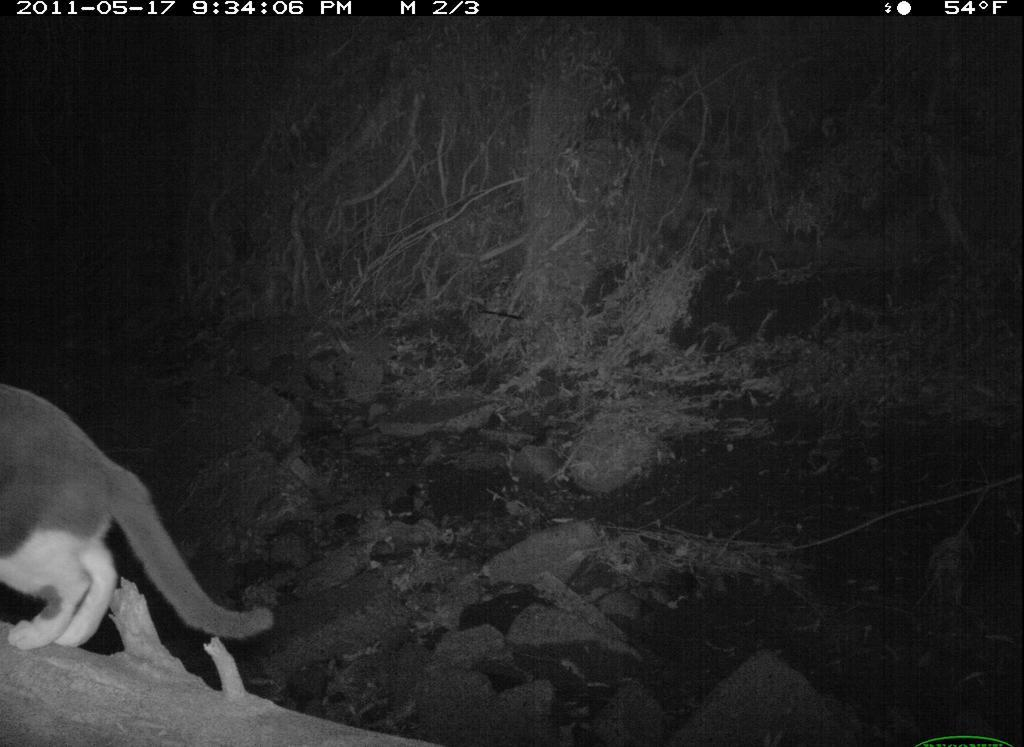cat: (1, 356, 286, 702)
